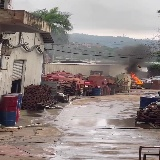fire: (130, 72, 145, 84)
